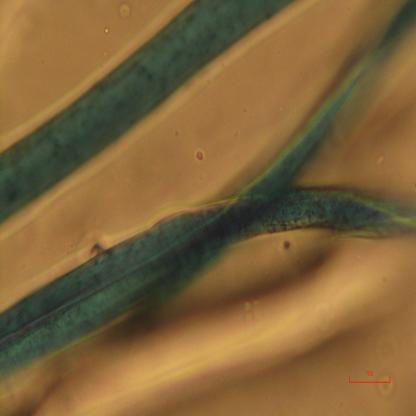Background material: (139, 239, 337, 409), (368, 368, 398, 400), (366, 146, 384, 172), (116, 0, 136, 17), (191, 143, 207, 164), (100, 24, 110, 34)
Microfibre: (0, 1, 416, 379), (0, 0, 296, 221)
